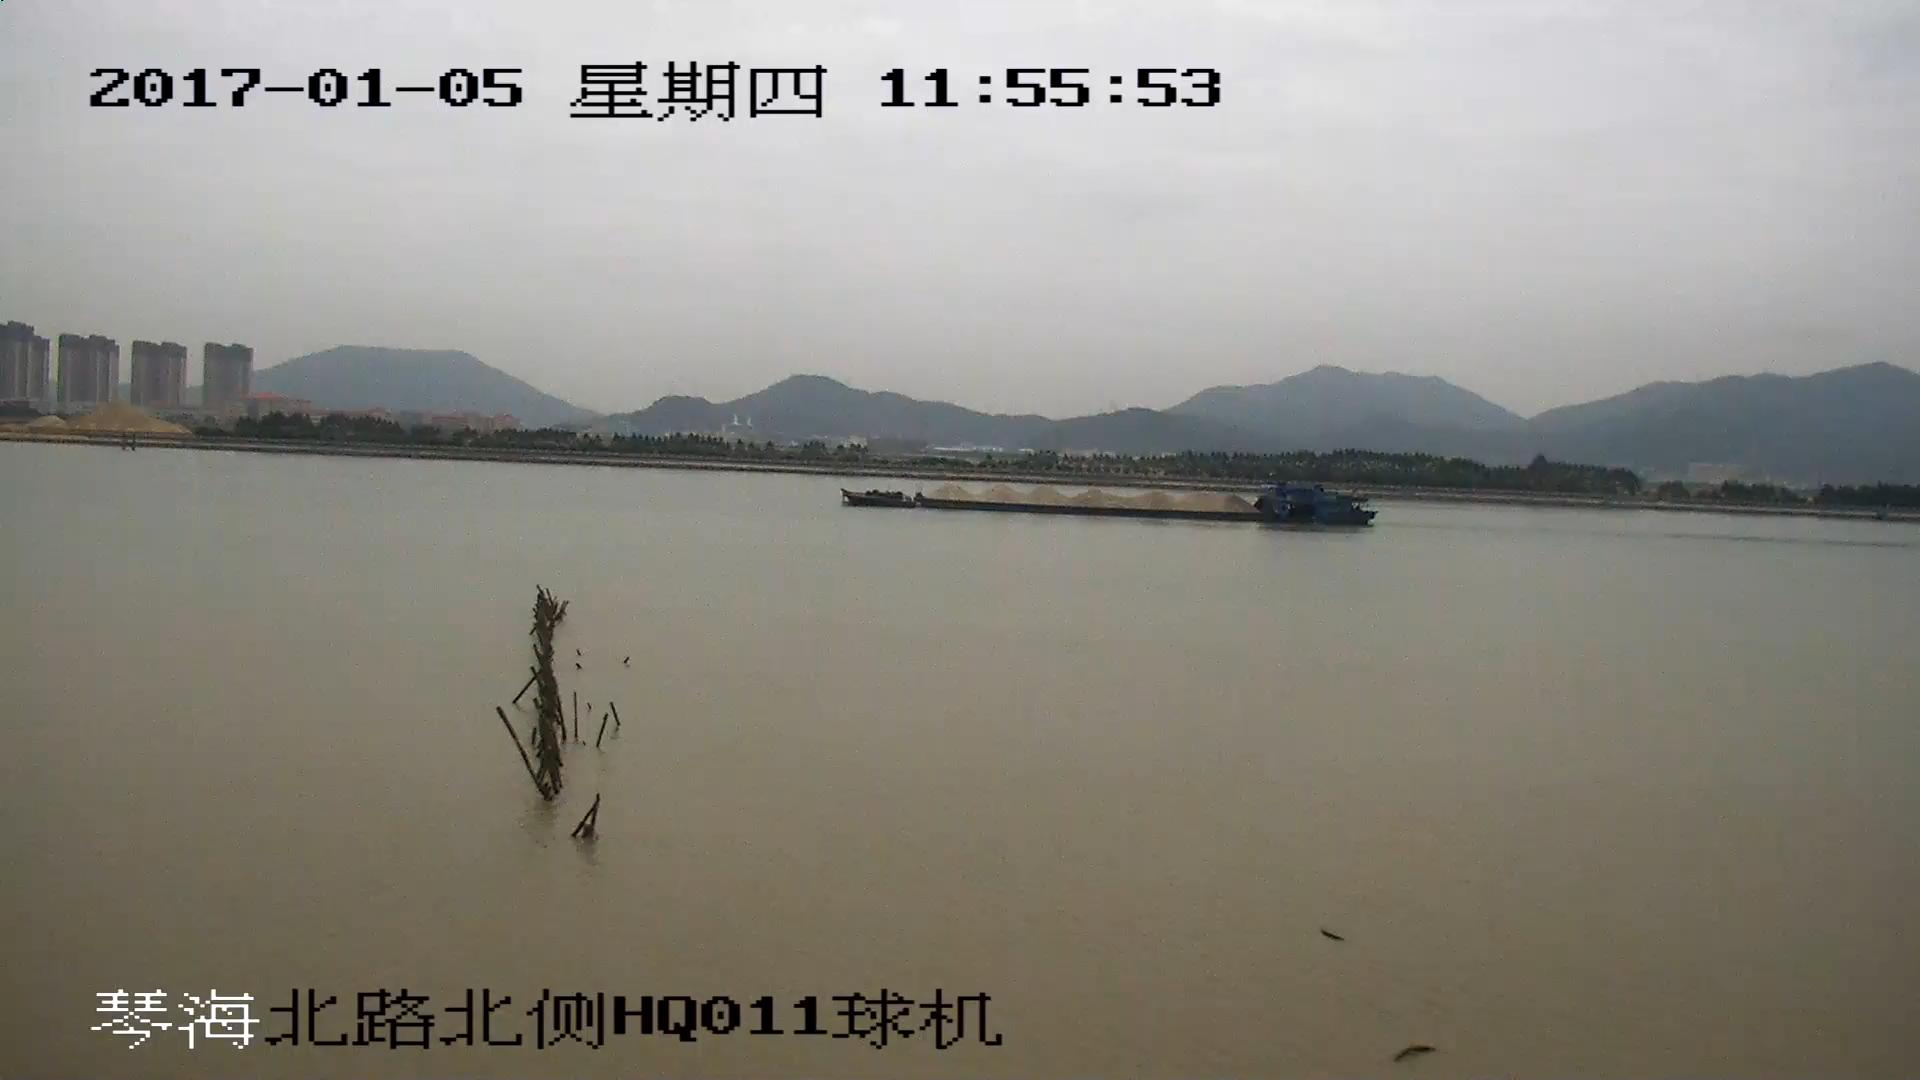ore carrier: (840, 482, 1378, 530)
